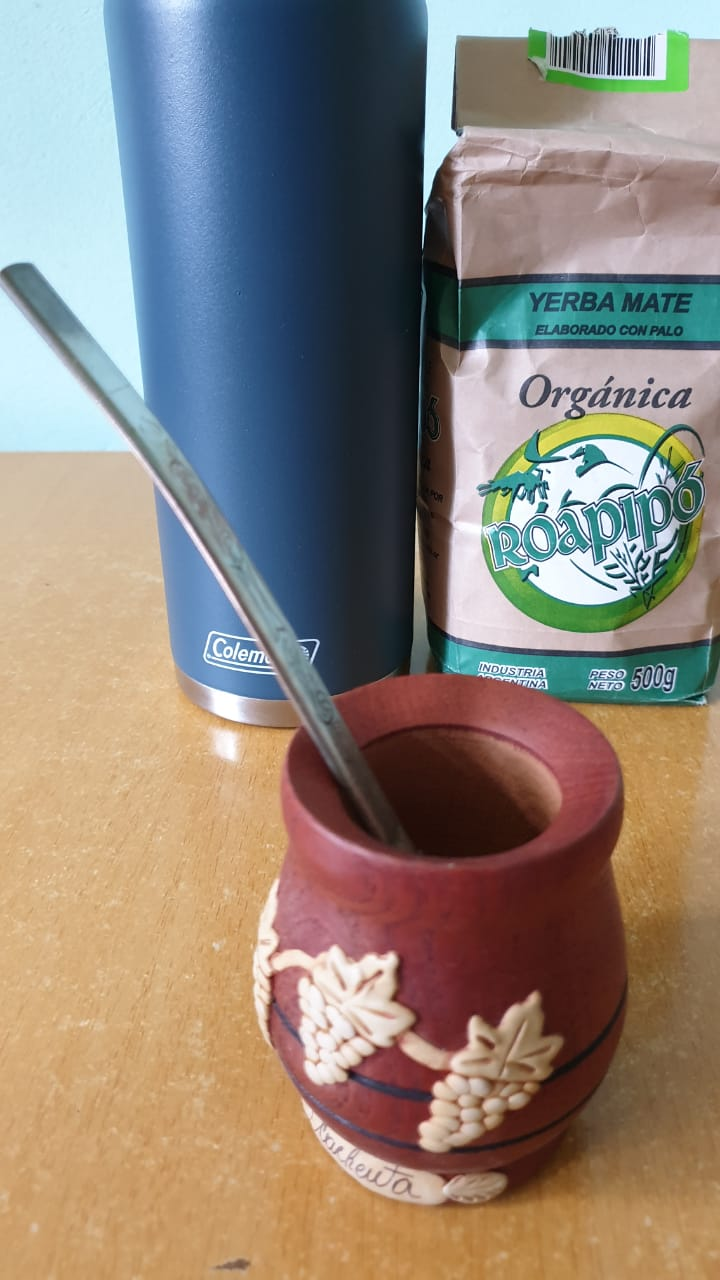madera: (249, 654, 668, 1198)
mate: (257, 661, 647, 1220)
